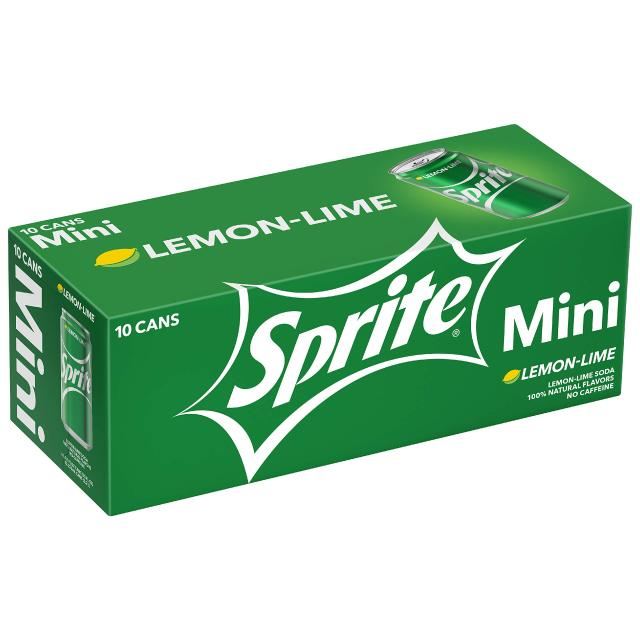sprite: (394, 127, 578, 251), (51, 317, 117, 459)
